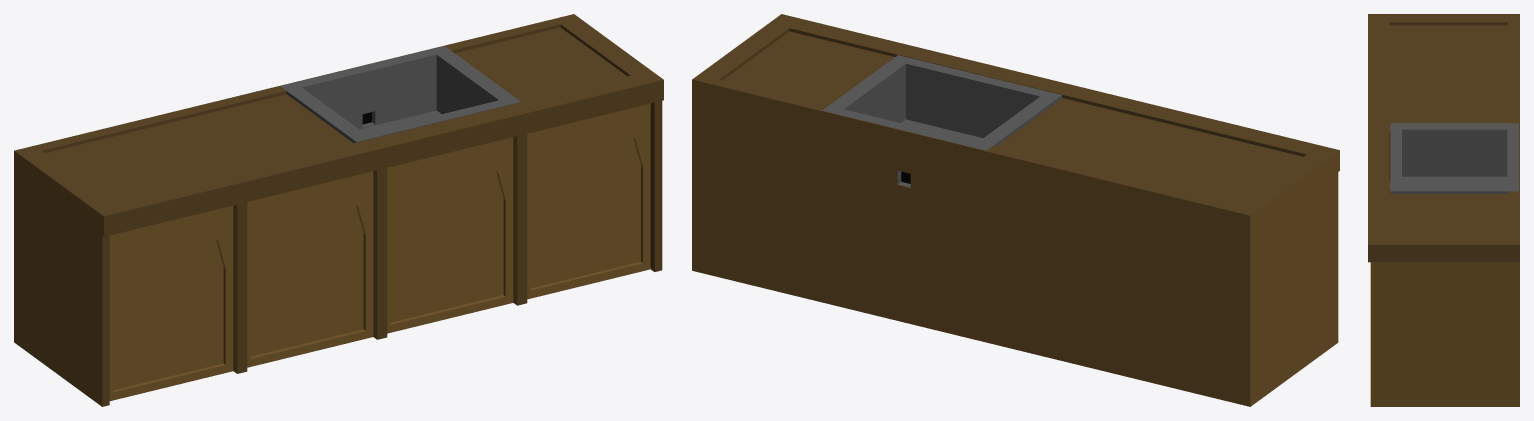
File: Counter_Sink.fbx
3 renders of one model, left to right at view 1: azimuth 30°, elevation 25°; view 2: azimuth 150°, elevation 25°; view 3: azimuth 270°, elevation 25°, orthographic. The views are drawn at different scales.
Visible parts, largest first — view 1: Cube.079; view 2: Cube.079; view 3: Cube.079.
Part boxes in pixels (x1,y1,x2,y2): Cube.079: (14,14,663,406); Cube.079: (692,14,1339,406); Cube.079: (1368,14,1519,406).
Bounding box in the file's own units: 295 × 96.78 × 81.99.
